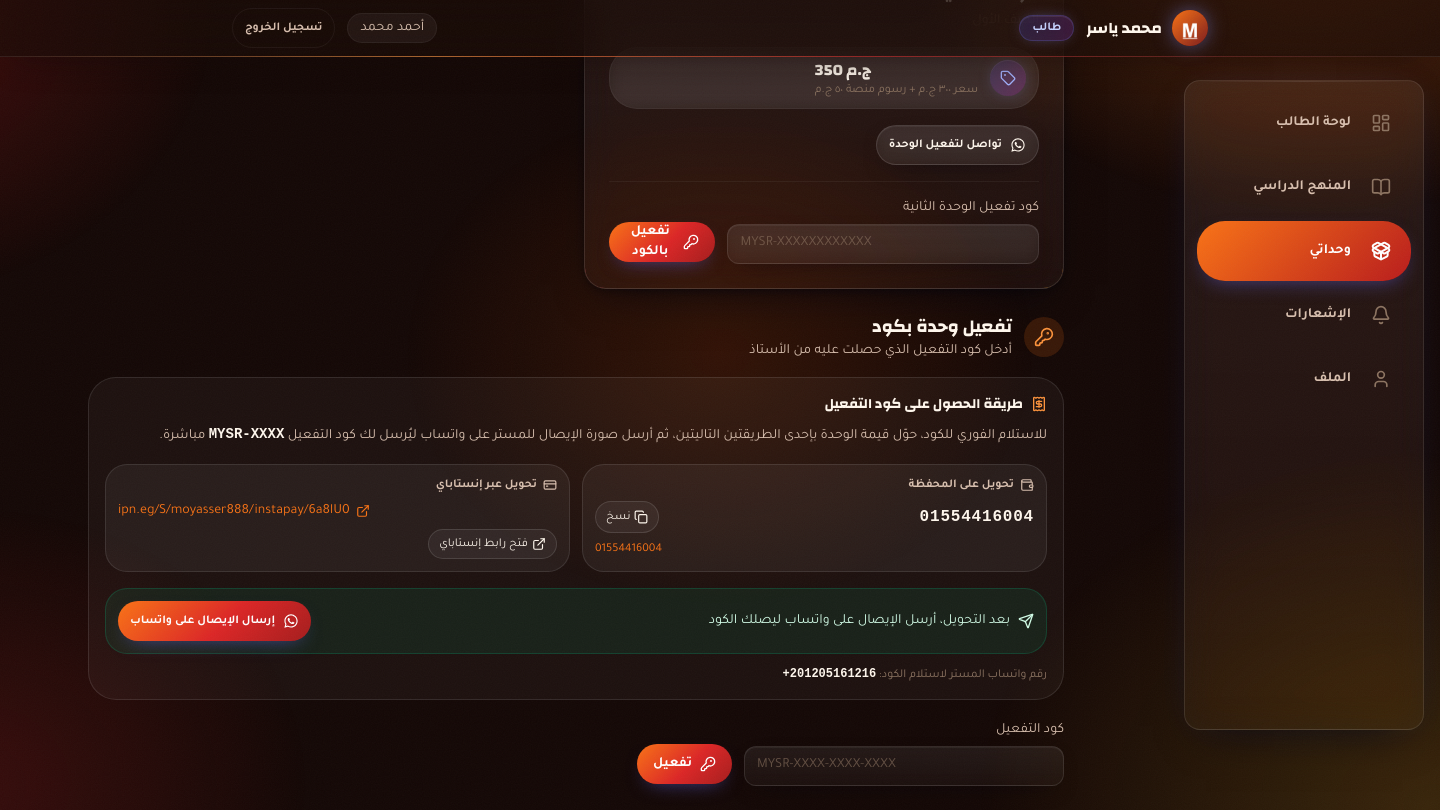
UnitsPage › activates a unit after redeeming a valid code
(page scrolled)
In the field labelled "كود التفعيل": (904, 766) [744,746,1064,786], type "MYSR-ABCD-EFGH-JKLM"
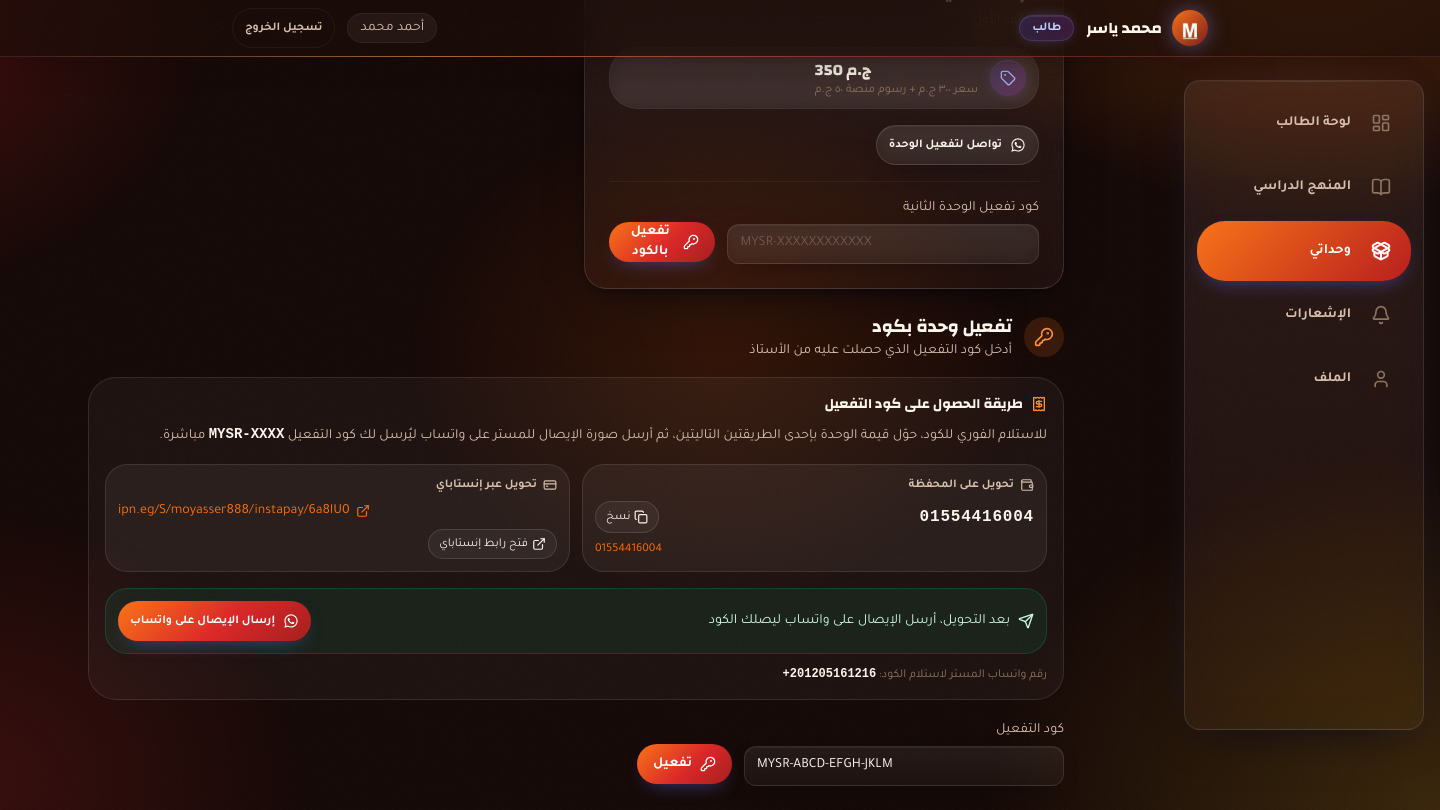
Click the button "تفعيل": click(684, 764) [637,744,732,784]
(page scrolled)
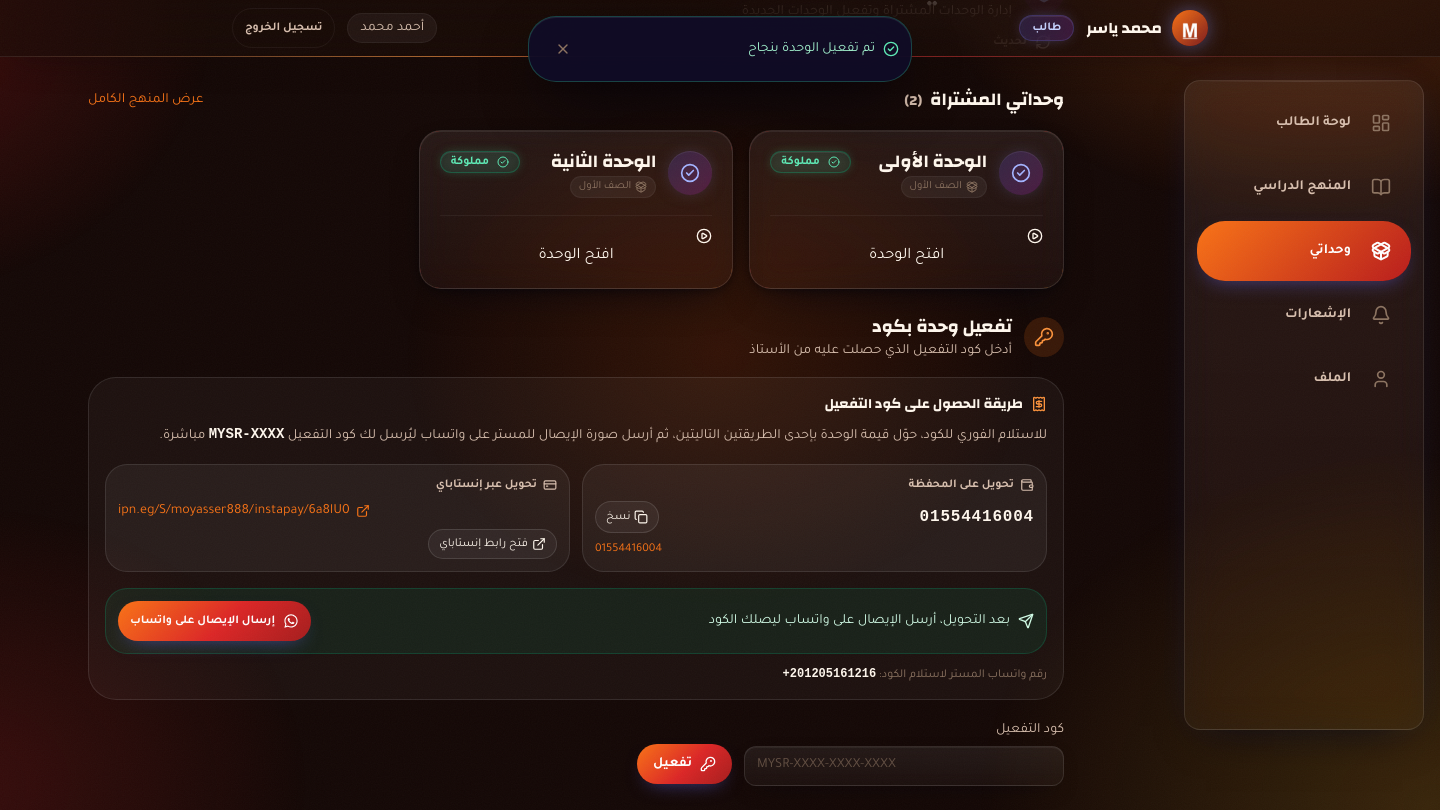
Now the text "تم تفعيل الوحدة بنجاح" is shown, box [748,42,875,56]
Now the button "افتح الوحدة" below "الوحدة الثانية" is shown, box [440,228,712,268]
